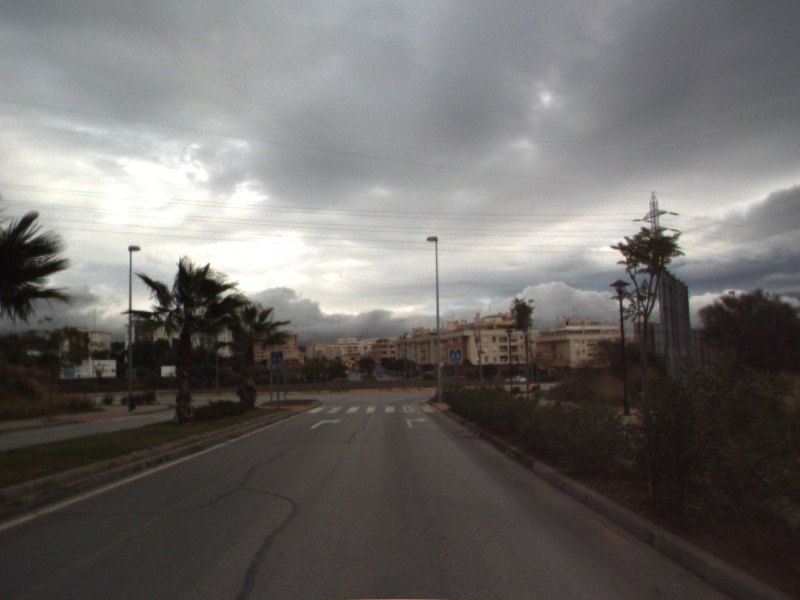RIGHT: (307, 416, 343, 431), (404, 414, 429, 430)
